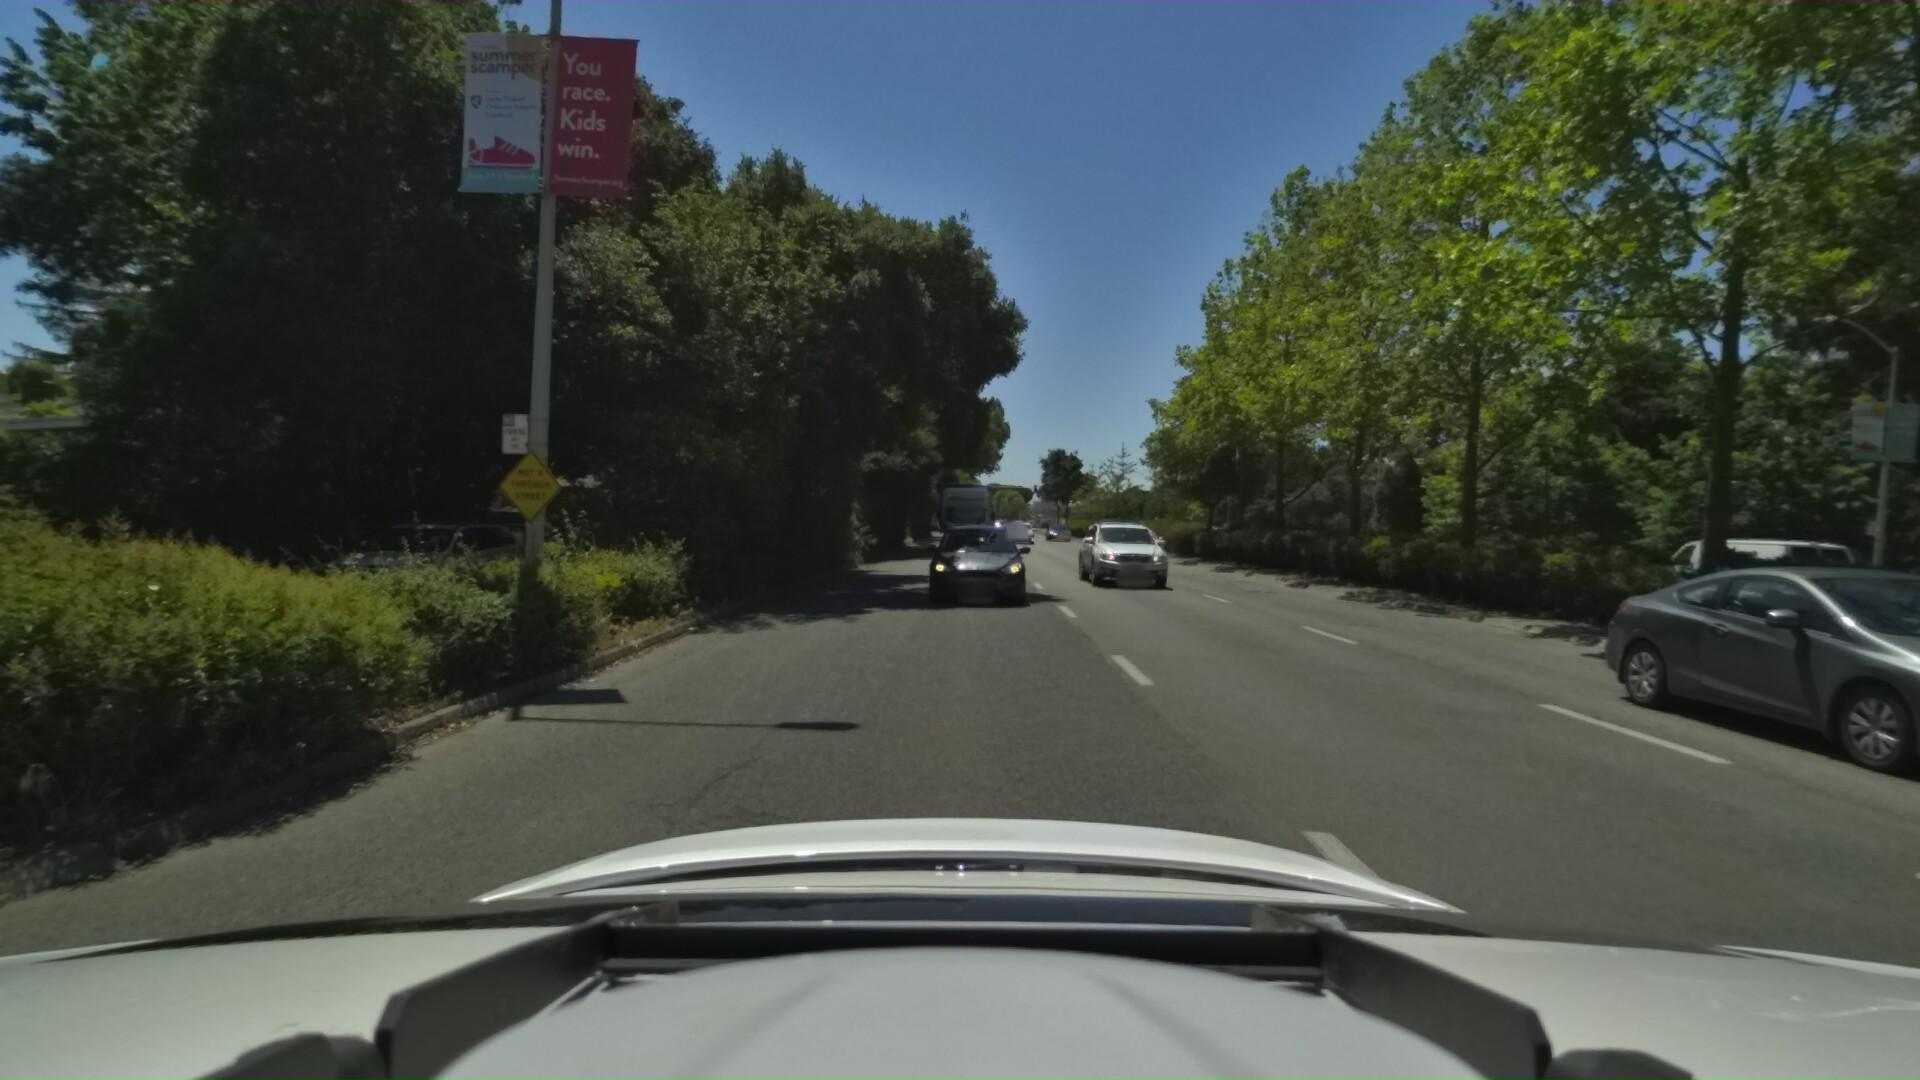car: (1511, 539, 1920, 773), (320, 513, 549, 636), (1667, 527, 1892, 611), (920, 520, 1027, 613), (421, 498, 560, 560), (1065, 514, 1164, 588), (1112, 520, 1175, 559), (1005, 518, 1035, 545), (1042, 524, 1069, 543)
truck: (930, 467, 996, 545)
